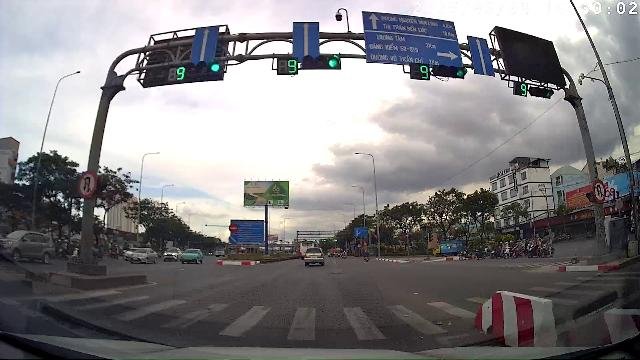124a-cam-quay-dau-xe: (78, 169, 98, 198), (591, 178, 607, 204)
